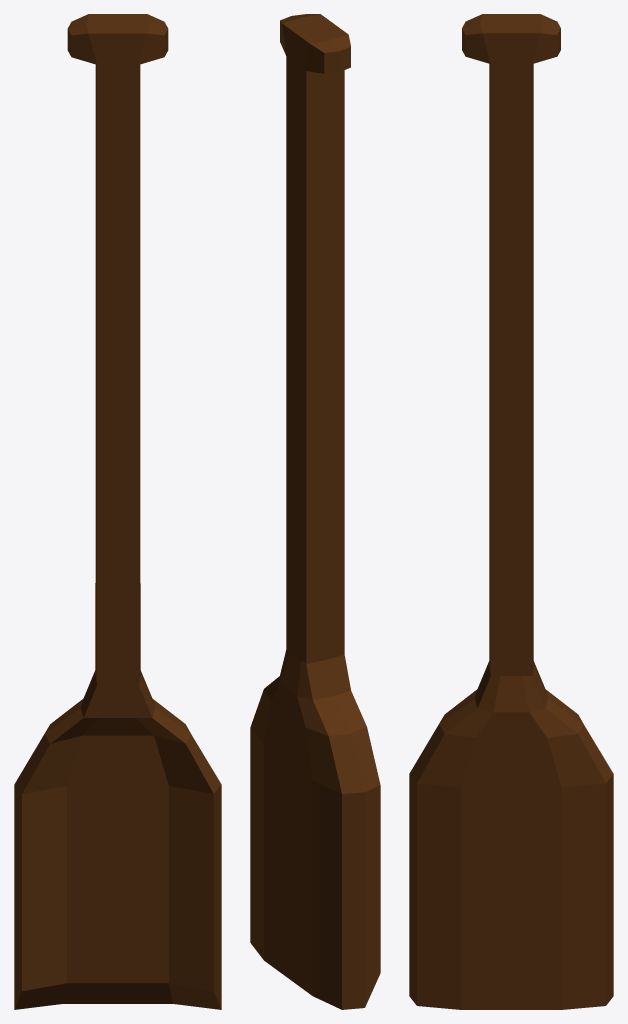
File: Rowboat_Paddle.fbx
3 renders of one model, left to right at view 1: azimuth 90°, elevation 25°; view 2: azimuth 210°, elevation 25°; view 3: azimuth 270°, elevation 25°, orthographic. The views are drawn at different scales.
Parts seen in each view (by area): view 1: Cube.002; view 2: Cube.002; view 3: Cube.002.
Boxes of the visible parts, bbox=[...] form: Cube.002: bbox=[14, 14, 221, 1009]; Cube.002: bbox=[250, 14, 380, 1009]; Cube.002: bbox=[409, 14, 613, 1009].
Size of the model in its own units: 12.93 by 251 by 47.82.
